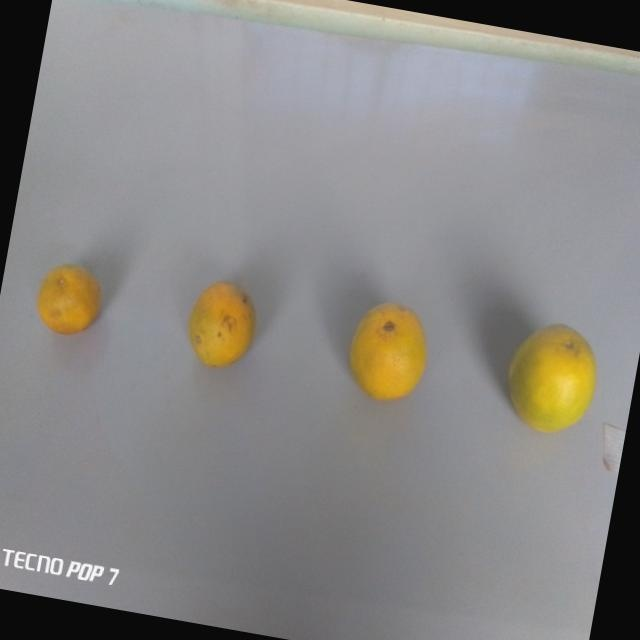agrume: (495, 312, 610, 452), (333, 289, 443, 413), (24, 251, 116, 355), (177, 273, 266, 378)
